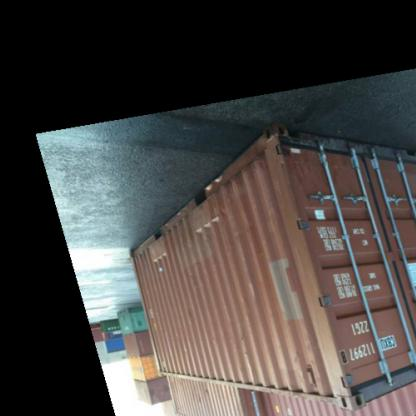Damage: (186, 215, 233, 248), (271, 136, 304, 176), (148, 248, 168, 277)
